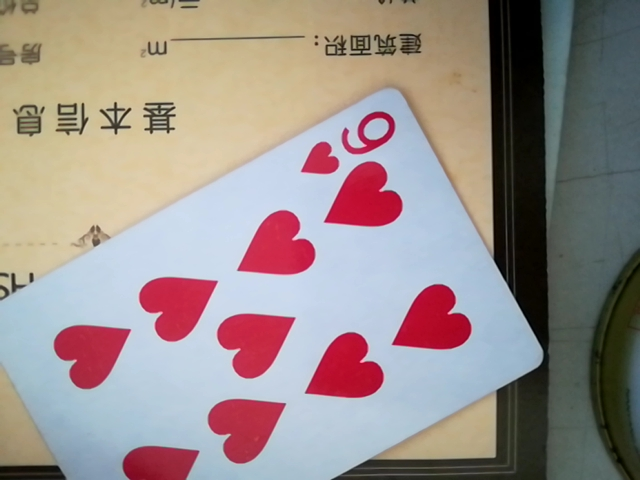hx 9: (0, 89, 538, 480)
